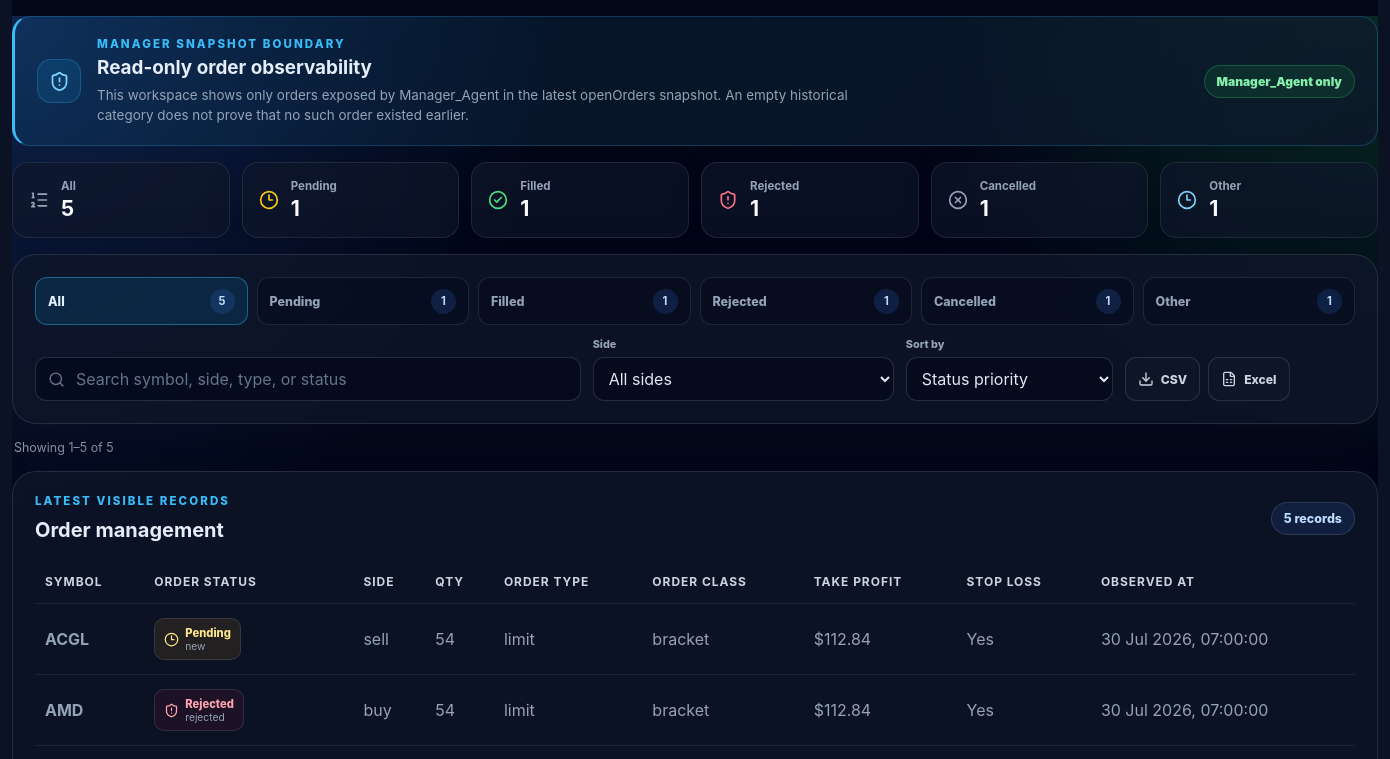
order management workspace › filters pending, filled, rejected, and cancelled snapshot orders
Expected: the element with test id "order-table-view" shows "ACGL", [45,629,89,649]
What coordinates should you click on to do the following:
click the button "Filled 1"
I would click on:
 (584, 301)
Its box is [478,277,690,325].
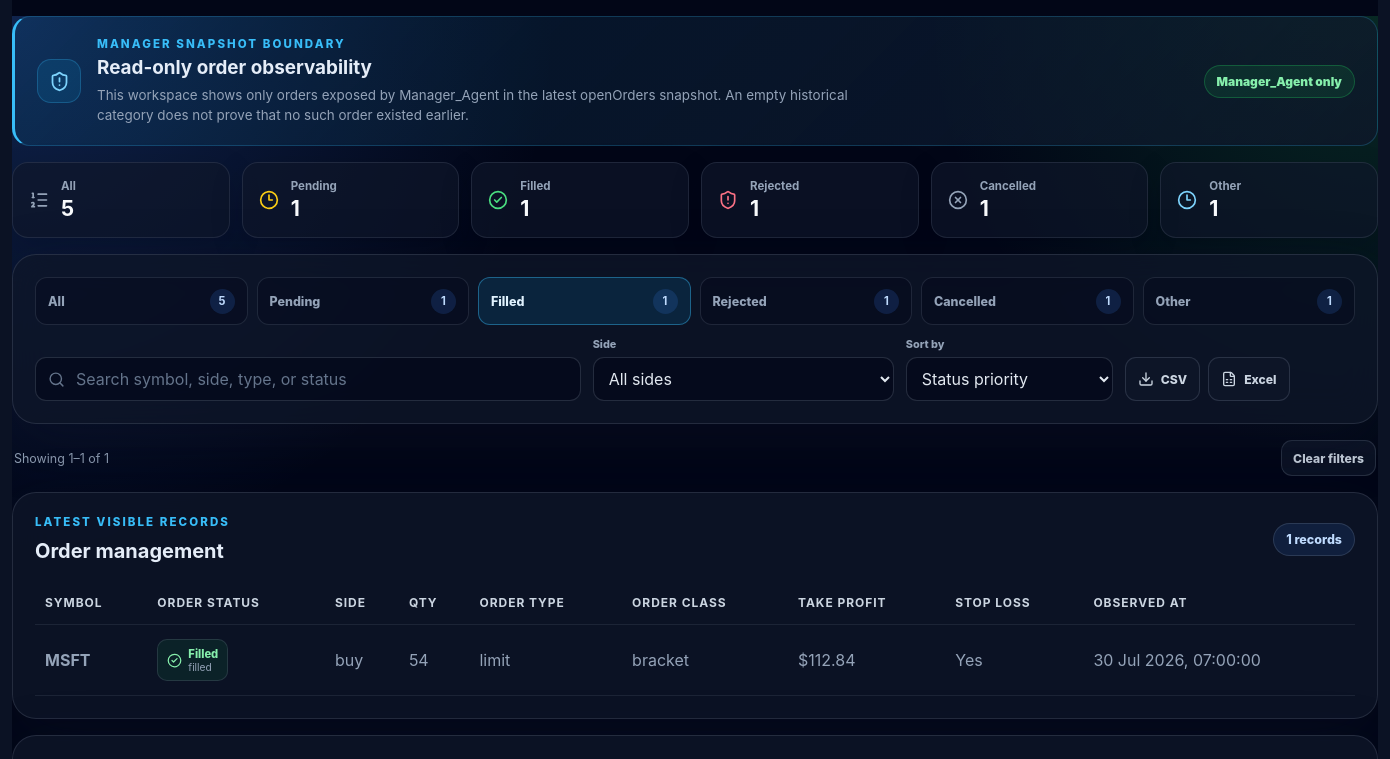
Expected: the element with test id "order-table-view" shows "MSFT", [45,650,90,670]
Now the element with test id "order-table-view" no longer shows "ACGL", box [35,581,1355,696]
What coordinates should you click on to do the following:
click the button "Rejected 1"
I would click on:
 (806, 301)
Its box is [700,277,912,325].
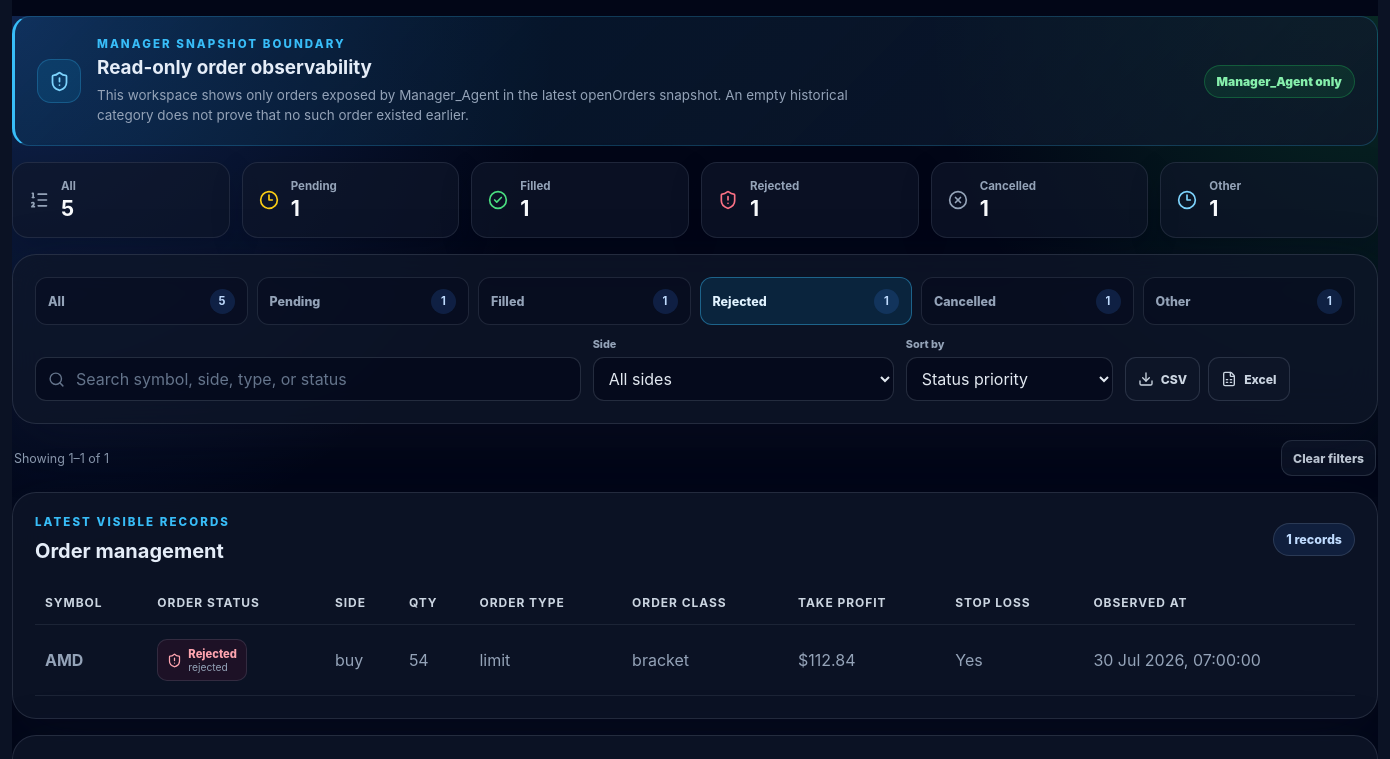
Now the element with test id "order-table-view" shows "AMD", box [45,650,83,670]
What coordinates should you click on to do the following:
click the button "Cancelled 1"
I would click on:
 (1027, 301)
Its box is [921,277,1134,325].
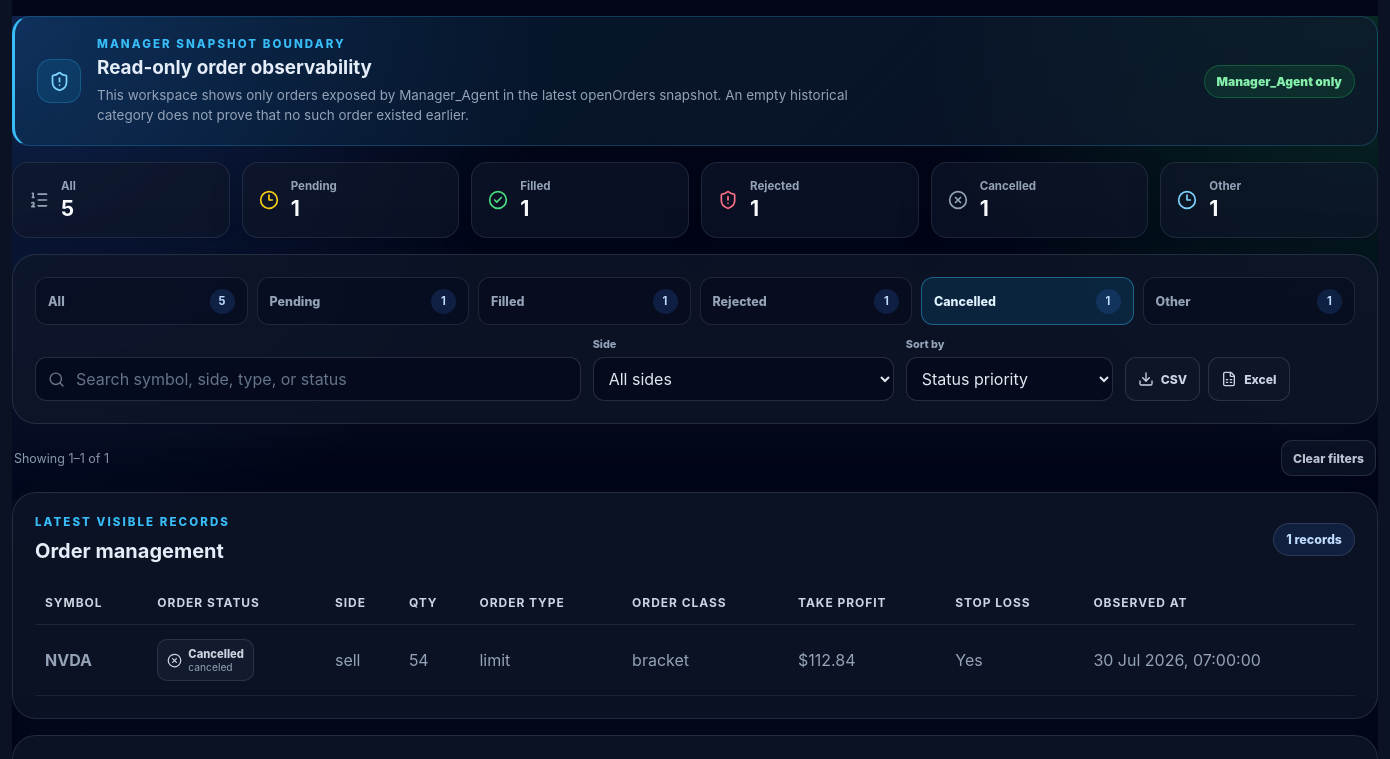
Now the element with test id "order-table-view" shows "NVDA", box [45,650,92,670]
What coordinates should you click on to do the following:
click the button "Other 1"
I would click on:
 (1249, 301)
Its box is [1142,277,1355,325].
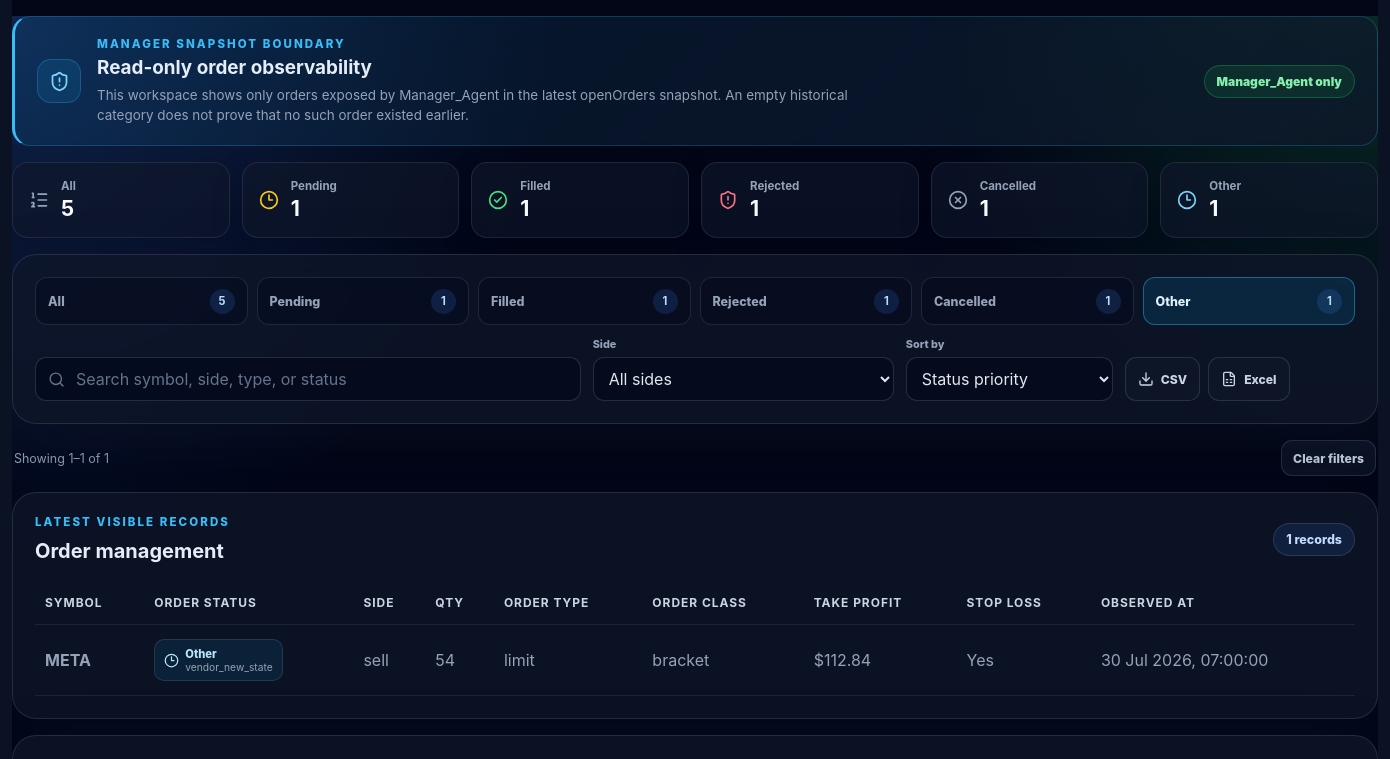
Now the element with test id "order-table-view" shows "META", box [45,650,91,670]
